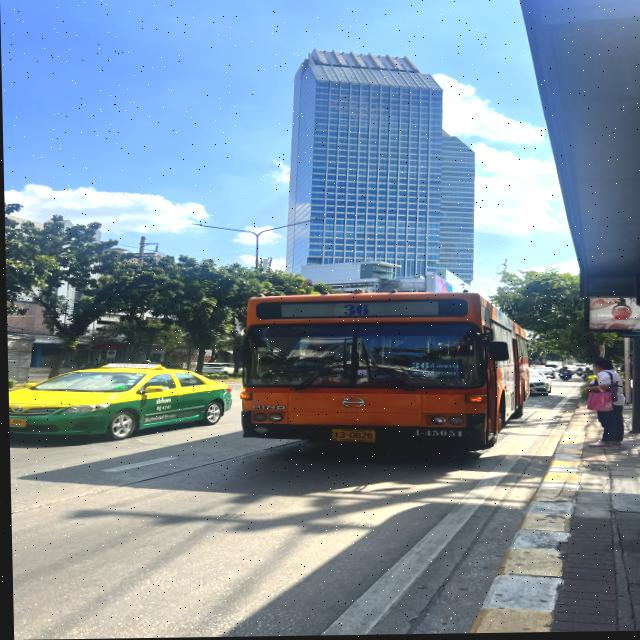BMTA-bus: (232, 289, 530, 458)
Bus-Line-Number: (335, 304, 374, 318)
Destination-Sign-Normal: (410, 359, 460, 380)
